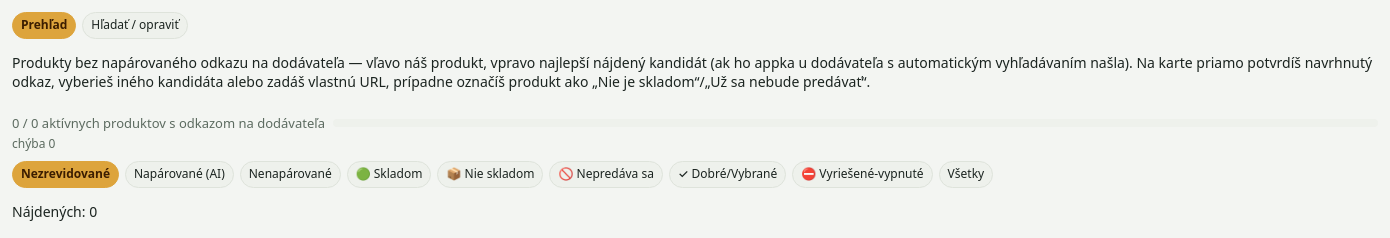
klik na 'Hľadať / opraviť' prepne na vyhľadávaciu záložku, aj keď 'Prehľad' ešte nedokončil svoje vlastné načítanie
Click the button with test id "pairing-review-tab-hladat": (135, 25) x1=82 y1=12 x2=188 y2=39
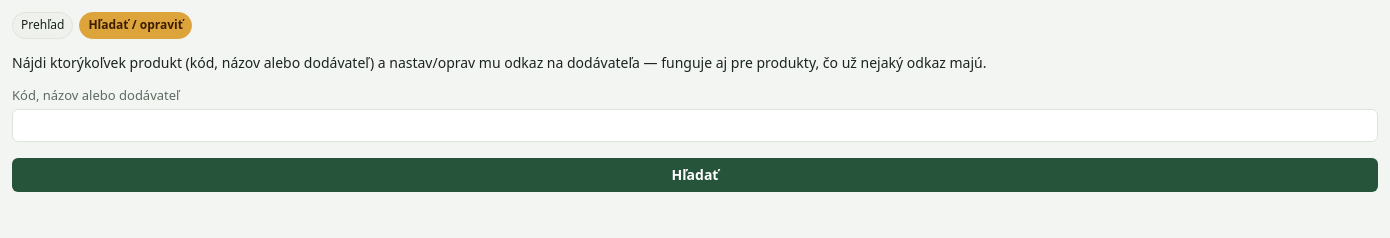
Expected: the element with test id "pairing-search-fix" is shown
Expected: the element with test id "pairing-review-filters" is gone
